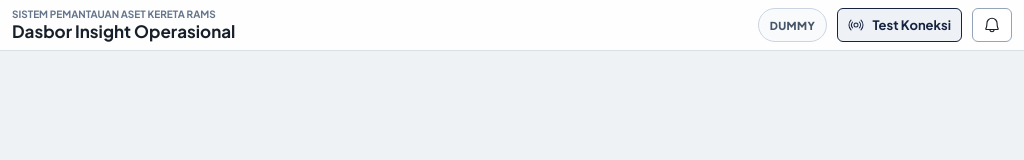
Test: Topbar data mode toggle › makes the visible DUMMY indicator switch to API mode
Click the button with aria-label "Sumber data Dummy": (792, 25) [758, 8, 827, 42]
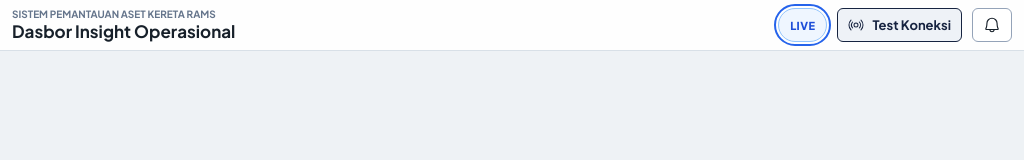
Expected: the button with aria-label "Sumber data API" reads "LIVE", [778, 8, 827, 42]
